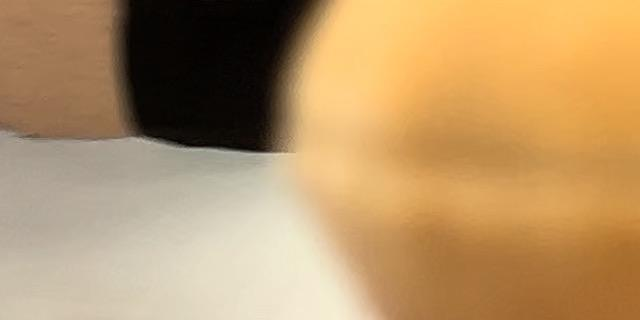burger: (255, 0, 640, 320)
